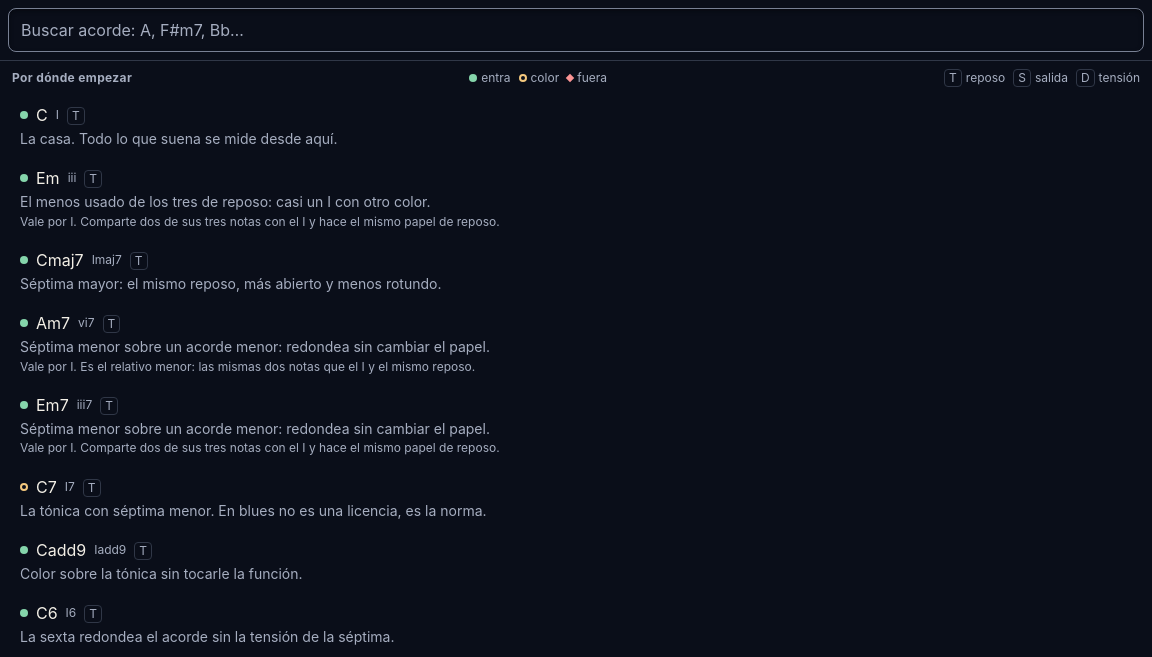
Scenario: lo que ya has tocado cuenta › las notas oidas llegan a la lista y al buscador
This screenshot has width=1152, height=657.
Type "C" into the dropdown named "Buscar un acorde" at (576,30), box [8,8,1144,52]
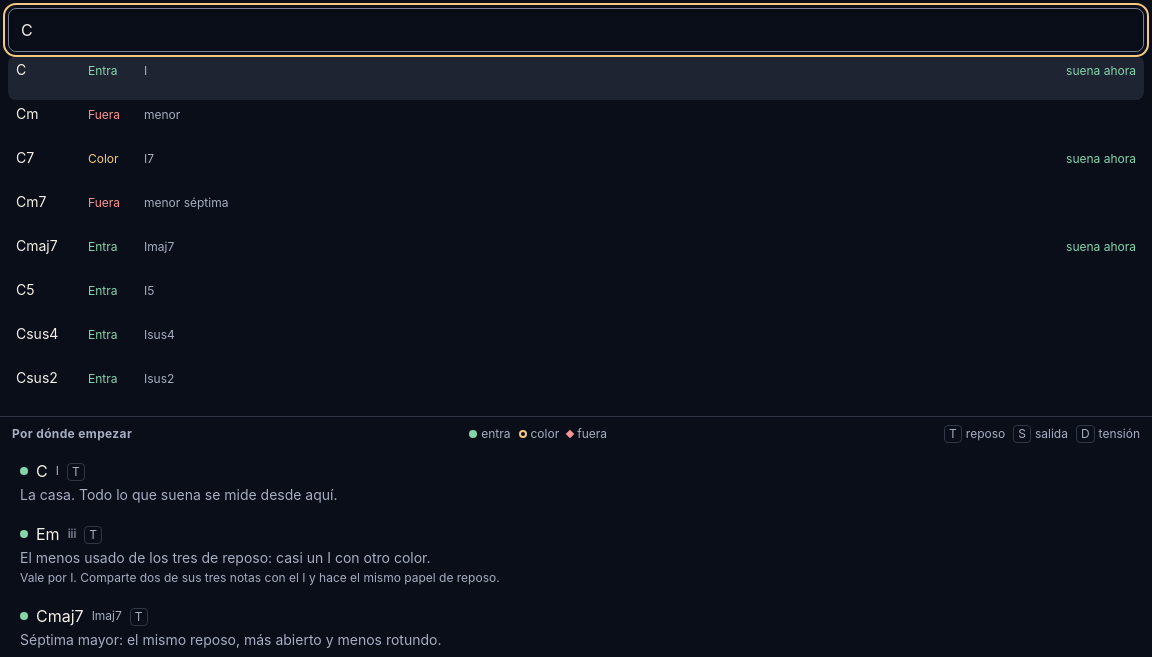
Now the button "C Entra I suena ahora" is shown, box [8,56,1144,100]
Now the 1st text "suena ahora" is shown, box [1066,63,1136,79]
